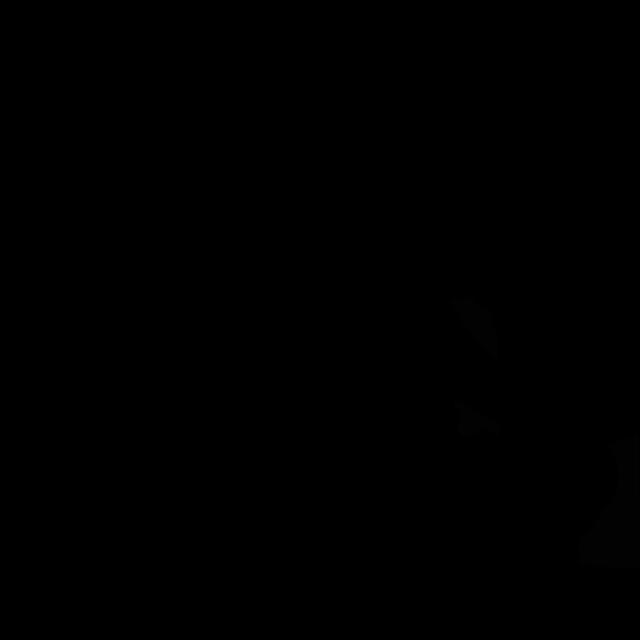cardboard: (578, 431, 640, 569), (449, 295, 498, 363), (454, 398, 502, 439)
